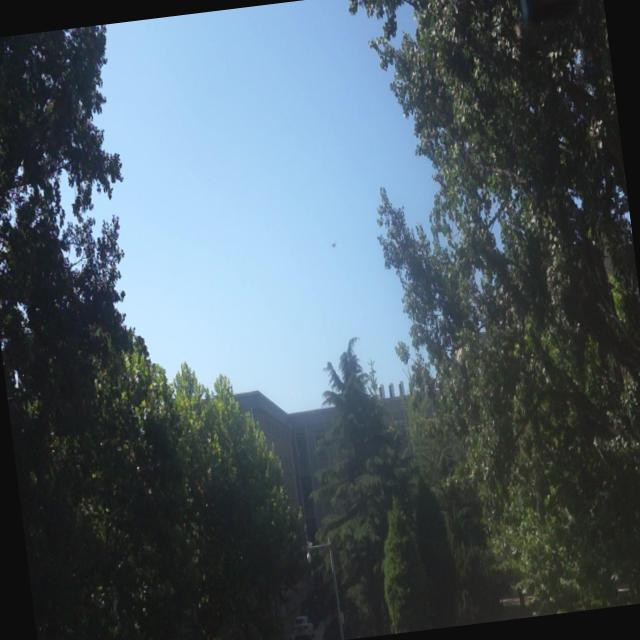drone: (328, 236, 340, 254)
